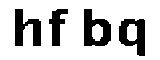b: (77, 6, 114, 51)
f: (47, 5, 67, 50)
h: (11, 4, 44, 50)
q: (114, 15, 149, 60)
